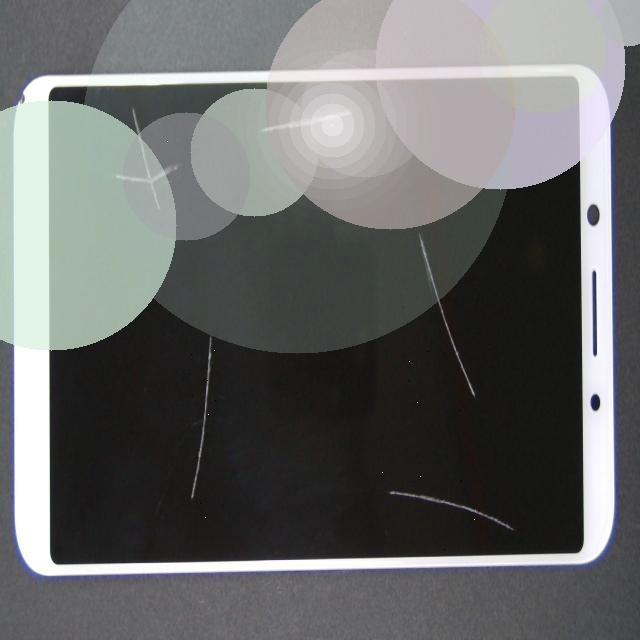scratch: (103, 232, 626, 640), (164, 35, 636, 451), (69, 258, 282, 640), (141, 30, 384, 183), (73, 60, 178, 240)
